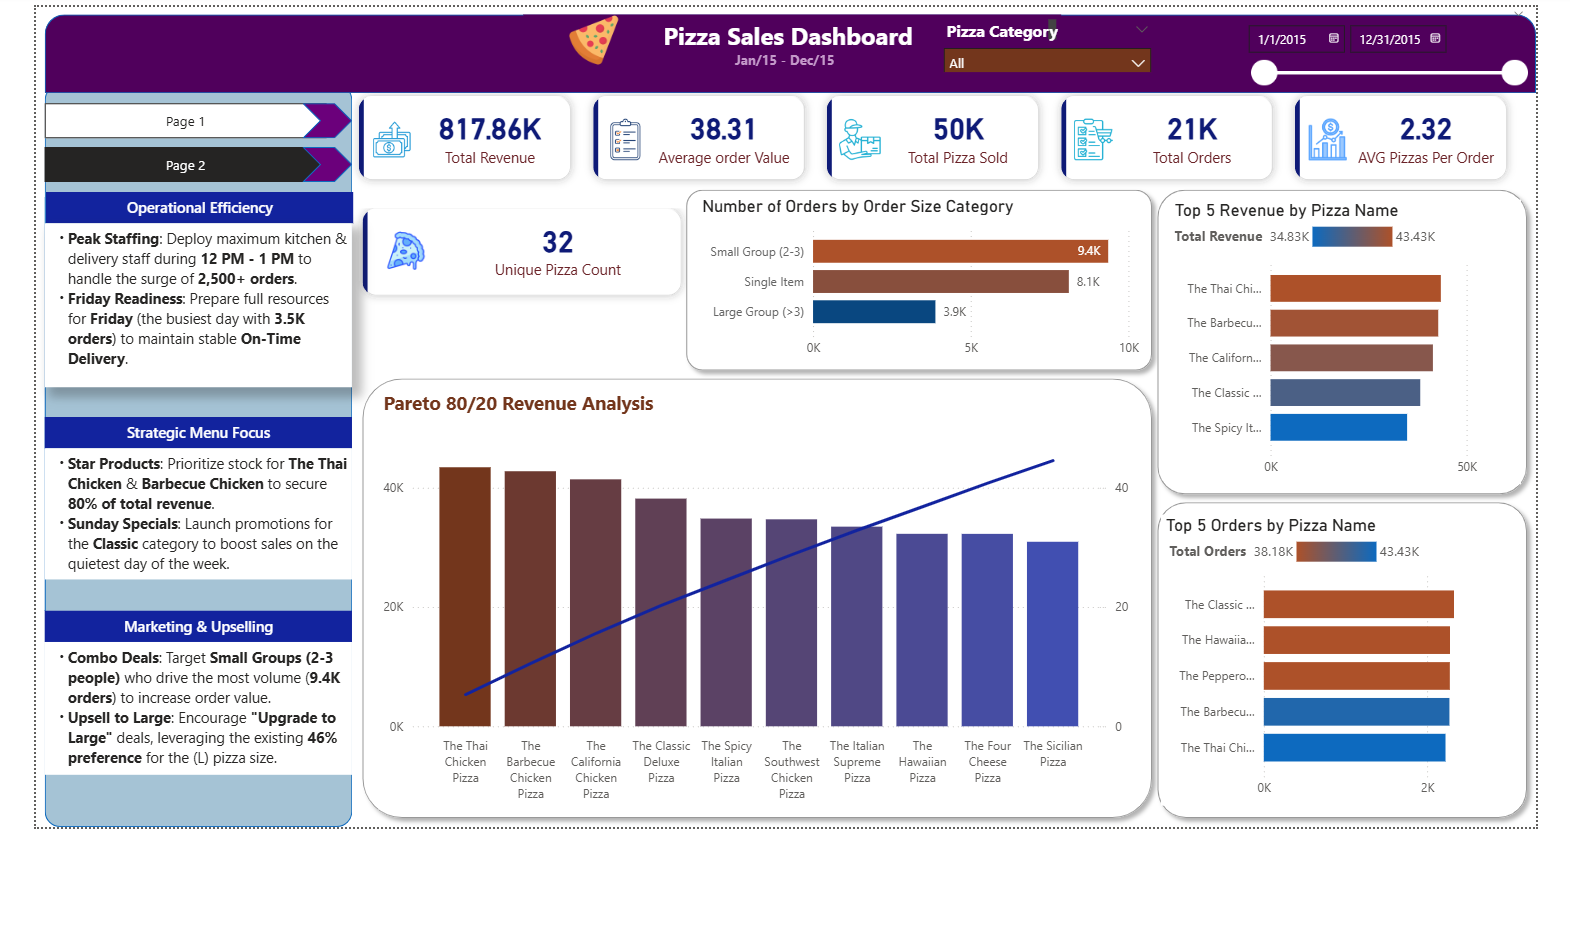

The dashboard page shown, as its layout file describes it:
{"tool":"powerbi","page":{"name":"Page 2","canvas":[1500,820],"ordinal":1},"visuals":[{"type":"cardVisual","fields":{"Data":["Sum(Unique pizza count.Unique_Pizza_Count)"]},"box":[298.8,173.8,375,143.8],"z":0},{"type":"cardVisual","fields":{"Data":["Sum(total revenue.Total Revenue)","Avg(AVG order value.Average order Value)","Sum(Total pizza sold.Total pizza sold)","Sum(Total orders.Total Orders)","Avg(AVG pizza per order.Avg_Pizzas_per_order)"]},"box":[295,61.2,1205,140],"z":1000},{"type":"shape","box":[8.8,77.5,307.5,742.5],"z":2000},{"type":"shape","box":[8.8,7.5,1491.2,78.8],"z":3000},{"type":"textbox","box":[487.5,7.5,537.5,41.2],"z":4000},{"type":"image","box":[514.3,7.1,88.6,51.4],"z":5000},{"type":"textbox","box":[652.5,38.8,192.5,30],"z":6000},{"type":"shape","box":[317.5,362.5,807.5,457.5],"z":7000},{"type":"shape","box":[1112.5,486.2,387.5,333.8],"z":8000},{"type":"slicer","fields":{"Values":["pizza_sales_data.pizza_category"]},"box":[897.5,7.5,227.5,57.5],"z":9000},{"type":"slicer","fields":{"Values":["pizza_sales_data.order_date"]},"box":[1200,0,300,88],"z":10000},{"type":"shape","box":[641.2,173.8,483.8,198.8],"z":11000},{"type":"shape","box":[1112.5,173.8,387.5,322.5],"z":12000},{"type":"lineClusteredColumnComboChart","title":"Pareto 80/20 Revenue Analysis","fields":{"Y2":["Sum(Pareto revenue analysis.cumulative_percentage)"],"Category":["Pareto revenue analysis.pizza_name"],"Y":["Sum(Pareto revenue analysis.product_revenue)"]},"box":[342.5,382.5,755,420],"z":13000},{"type":"clusteredBarChart","title":"Top 5 Revenue by Pizza Name","fields":{"Category":["Top 5 pizza revernue.pizza_name"],"Y":["Sum(Top 5 pizza revernue.Total_Revenue)"]},"box":[1133.8,192.5,351.2,285],"z":14000},{"type":"clusteredBarChart","title":"Number of Orders by Order Size Category","fields":{"Category":["number of order by order size.Order_Size_Category"],"Y":["Sum(number of order by order size.Number_of_Orders)"]},"box":[661.2,188.8,447.5,170],"z":15000},{"type":"clusteredBarChart","title":"Top 5 Orders by Pizza Name","fields":{"Category":["top 5 pizza by total order.pizza_name"],"Y":["Sum(top 5 pizza by total order.Total_Orders)"]},"box":[1125,507.5,360,291.2],"z":16000},{"type":"textbox","box":[10,185,307.5,31.2],"z":17000},{"type":"textbox","box":[8.8,216.2,307.5,163.8],"z":18000},{"type":"textbox","box":[8.8,410,307.5,31.2],"z":19000},{"type":"textbox","box":[8.8,441.2,307.5,131.2],"z":20000},{"type":"textbox","box":[8.8,603.8,307.5,31.2],"z":21000},{"type":"pageNavigator","box":[8.8,140,282.5,35],"z":21500},{"type":"textbox","box":[8.8,635,307.5,132.5],"z":22000},{"type":"shape","box":[266.2,140,50,35],"z":23000},{"type":"pageNavigator","box":[8.8,96.2,282.5,35],"z":24500},{"type":"shape","box":[266.2,96.2,50,35],"z":25000}]}

Visuals, with their boxes on the page's 1500x820 design canvas (x1, y1, x2, y2). These are canvas units, not pixel positions in the 1570x928 screenshot, which may show the page scaled, cropped or inside an application window:
cardVisual - Sum(Unique pizza count.Unique_Pizza_Count): locate(299, 174, 674, 318)
cardVisual - Sum(total revenue.Total Revenue) x Avg(AVG order value.Average order Value): locate(295, 61, 1500, 201)
shape: locate(9, 78, 316, 820)
shape: locate(9, 8, 1500, 86)
textbox: locate(488, 8, 1025, 49)
image: locate(514, 7, 603, 58)
textbox: locate(652, 39, 845, 69)
shape: locate(318, 362, 1125, 820)
shape: locate(1112, 486, 1500, 820)
slicer - pizza_sales_data.pizza_category: locate(898, 8, 1125, 65)
slicer - pizza_sales_data.order_date: locate(1200, 0, 1500, 88)
shape: locate(641, 174, 1125, 373)
shape: locate(1112, 174, 1500, 496)
"Pareto 80/20 Revenue Analysis" lineClusteredColumnComboChart: locate(342, 382, 1098, 802)
"Top 5 Revenue by Pizza Name" clusteredBarChart: locate(1134, 192, 1485, 478)
"Number of Orders by Order Size Category" clusteredBarChart: locate(661, 189, 1109, 359)
"Top 5 Orders by Pizza Name" clusteredBarChart: locate(1125, 508, 1485, 799)
textbox: locate(10, 185, 318, 216)
textbox: locate(9, 216, 316, 380)
textbox: locate(9, 410, 316, 441)
textbox: locate(9, 441, 316, 572)
textbox: locate(9, 604, 316, 635)
pageNavigator: locate(9, 140, 291, 175)
textbox: locate(9, 635, 316, 768)
shape: locate(266, 140, 316, 175)
pageNavigator: locate(9, 96, 291, 131)
shape: locate(266, 96, 316, 131)
